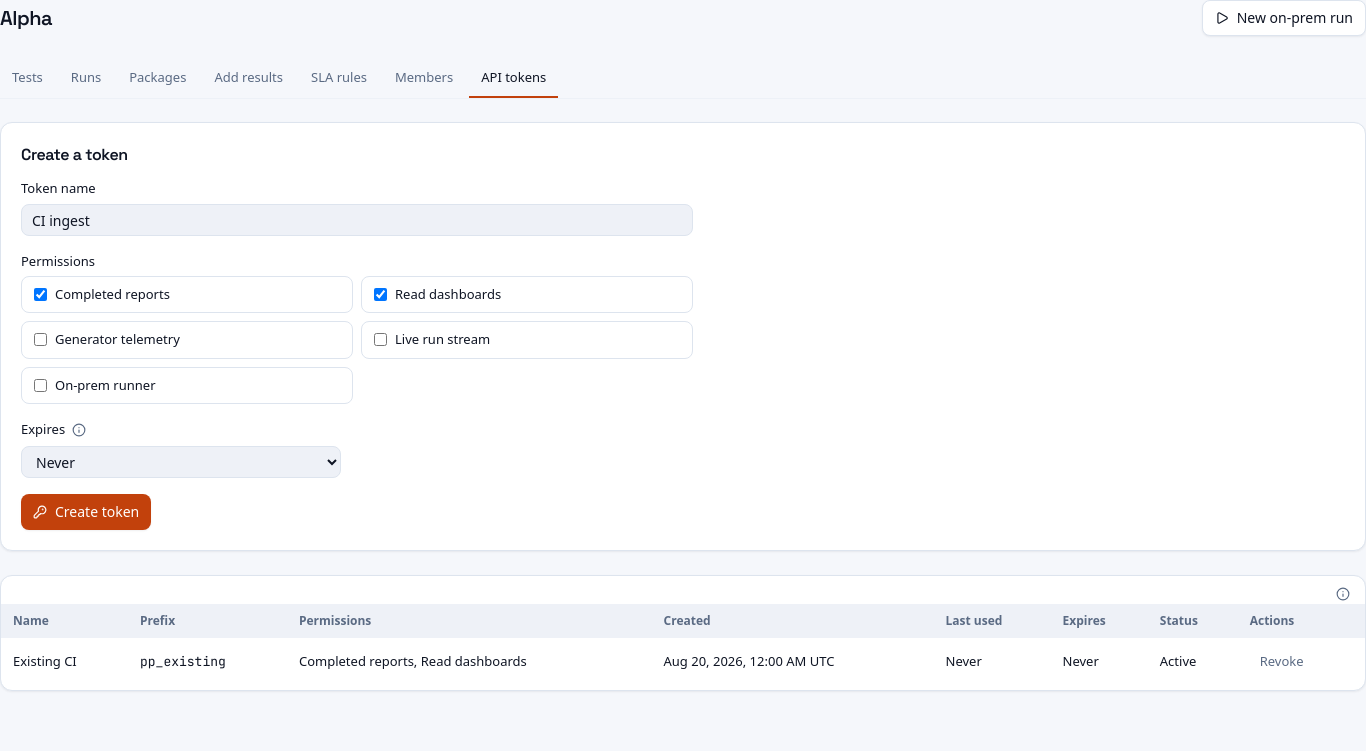
Test: ProjectAccess › says so when a revoke fails, rather than looking like it worked
Expected: the text "pp_existing" is shown, [128, 638, 287, 686]
// Two clicks, because revoking is now deliberate: arm, then confirm.
Click the button "Revoke".
click(1282, 662)  # box [1250, 646, 1314, 678]
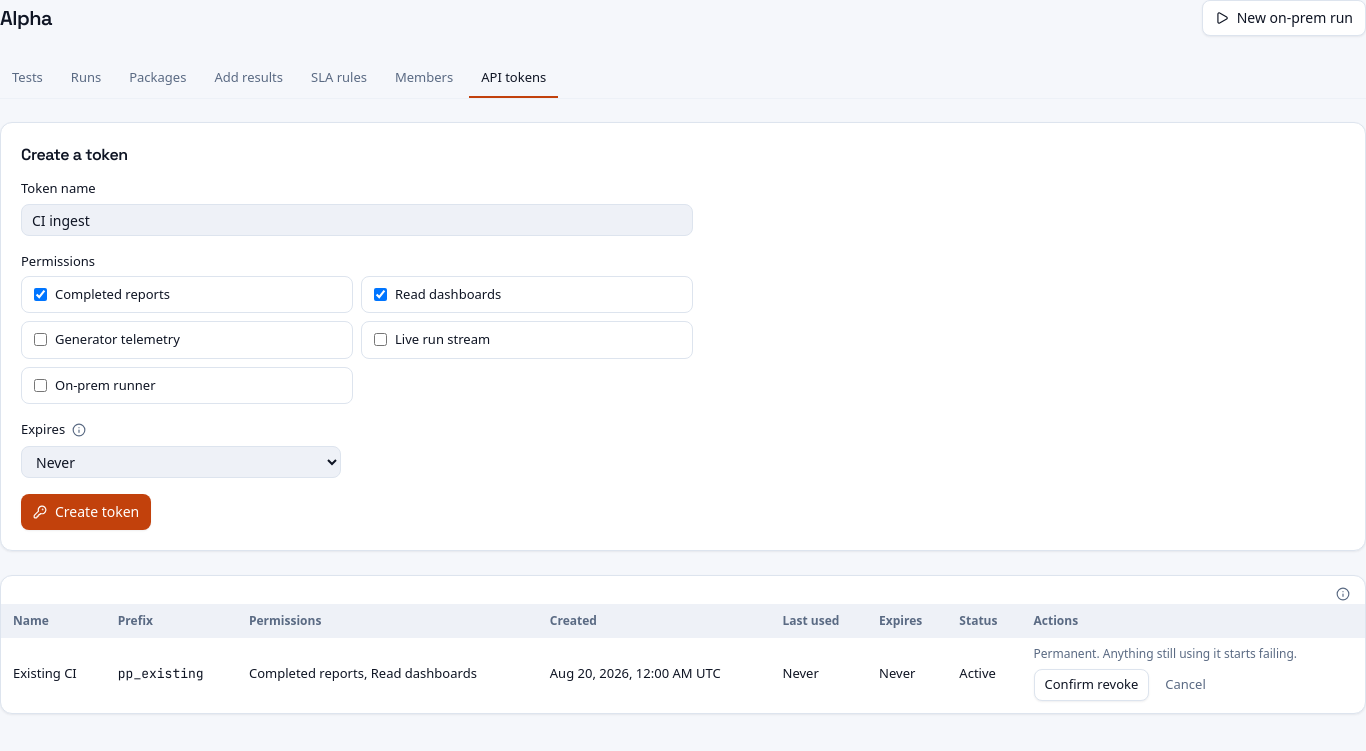
Click the button "Confirm revoke".
click(1091, 684)  # box [1034, 668, 1149, 700]
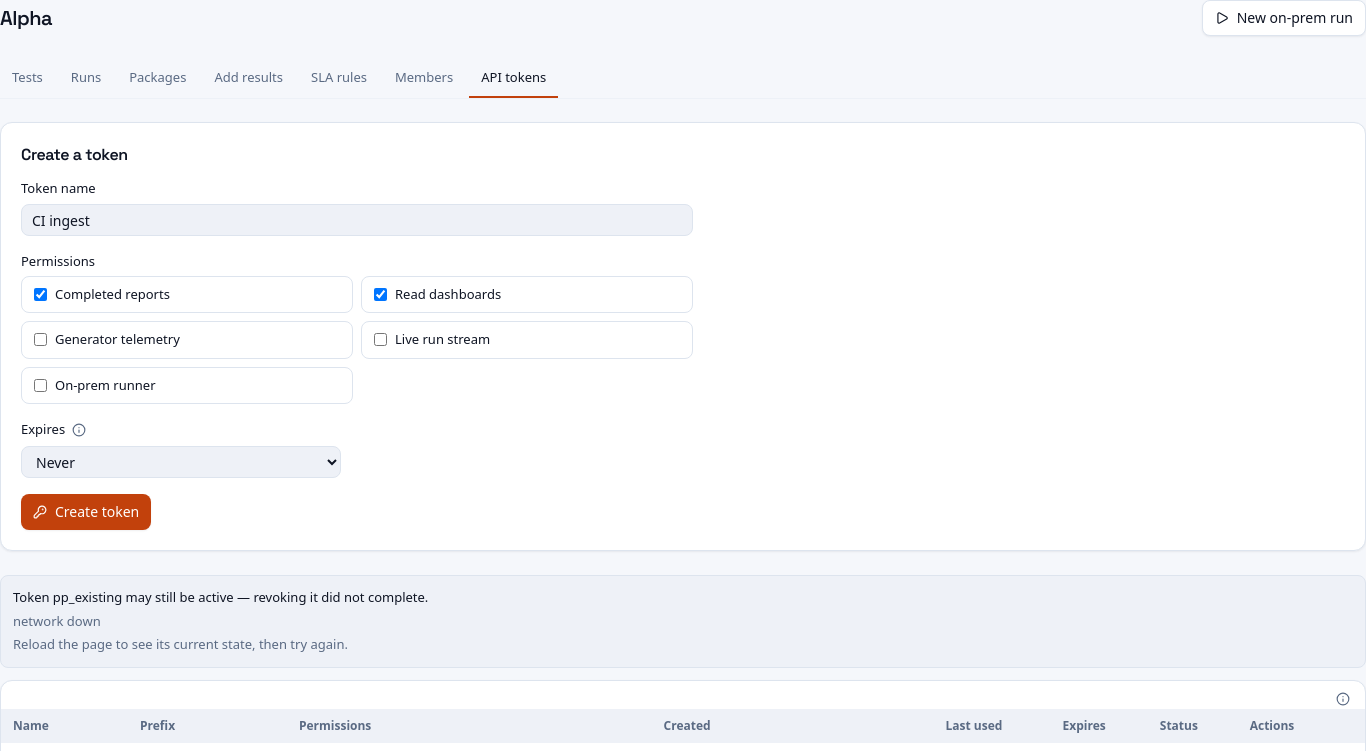
Now the message shows "pp_existing", box [13, 588, 428, 606]
Now the message shows "may still be active", box [13, 588, 428, 606]
Now the message shows "network down", box [13, 612, 101, 630]
